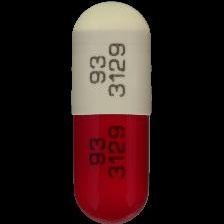0093-3129: (0, 0, 224, 224)
